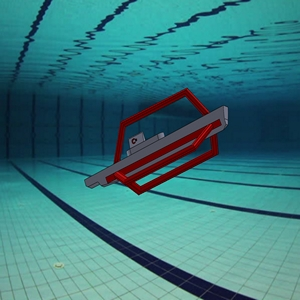submarine: (77, 76, 238, 216)
